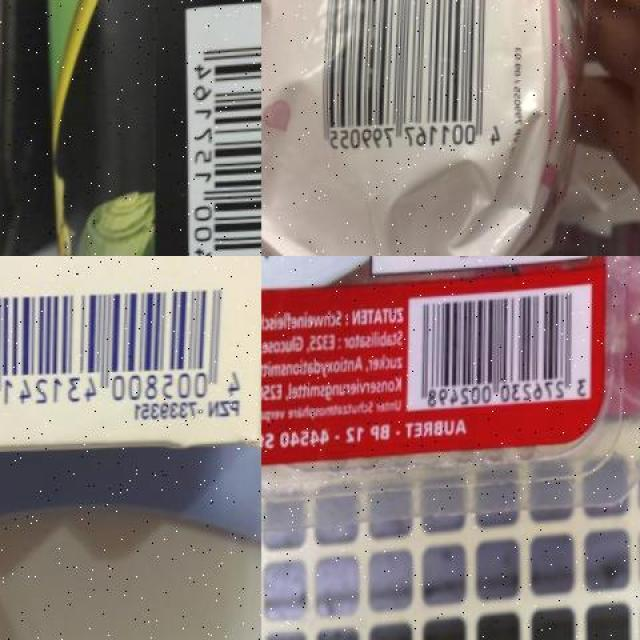Barcode: (0, 262, 251, 414), (313, 0, 511, 163), (405, 285, 595, 414), (178, 0, 262, 256)
